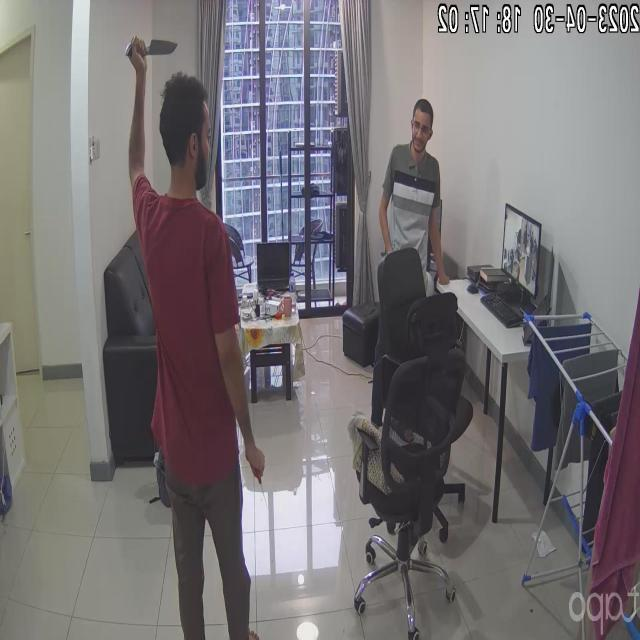Knife: (122, 30, 185, 61)
